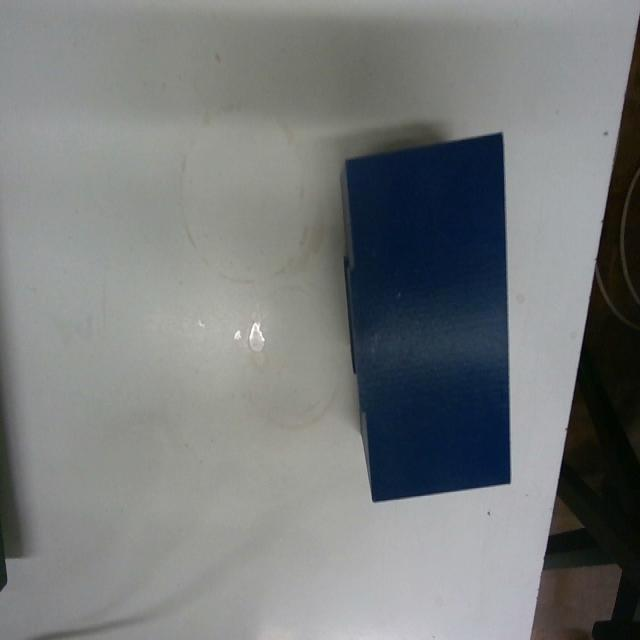Blue Cuboid: (337, 128, 513, 504)
